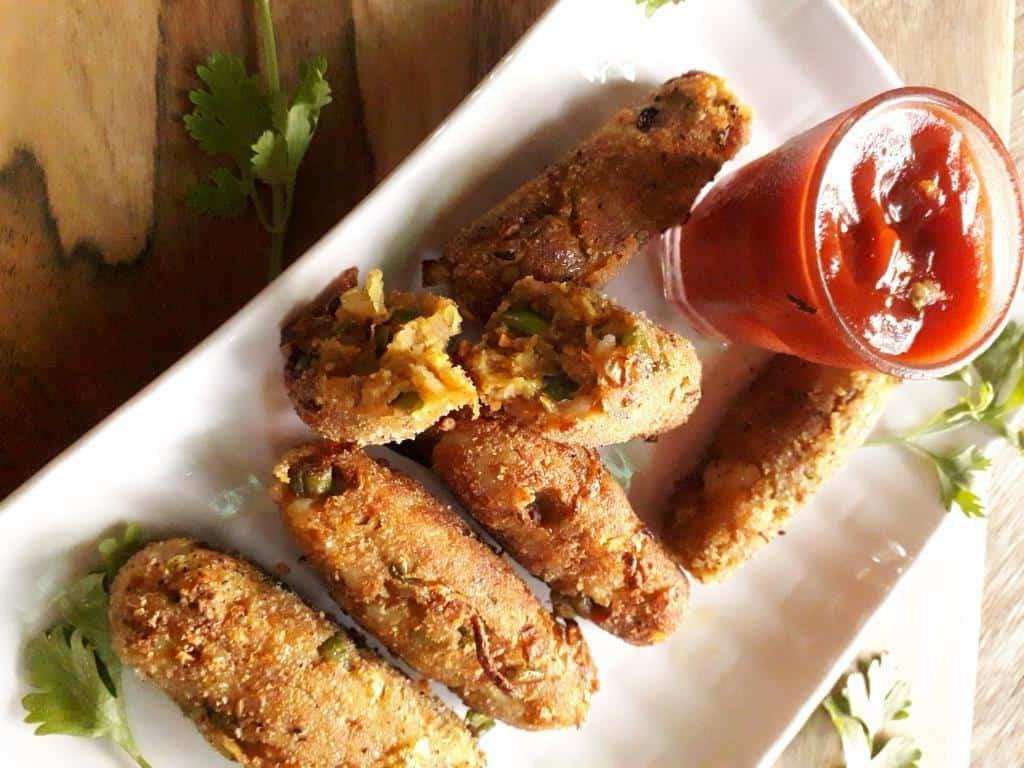Kebab: (268, 432, 610, 734), (103, 537, 478, 768), (442, 71, 750, 315), (441, 377, 686, 649), (667, 302, 901, 586), (464, 280, 702, 447), (281, 267, 474, 445)
